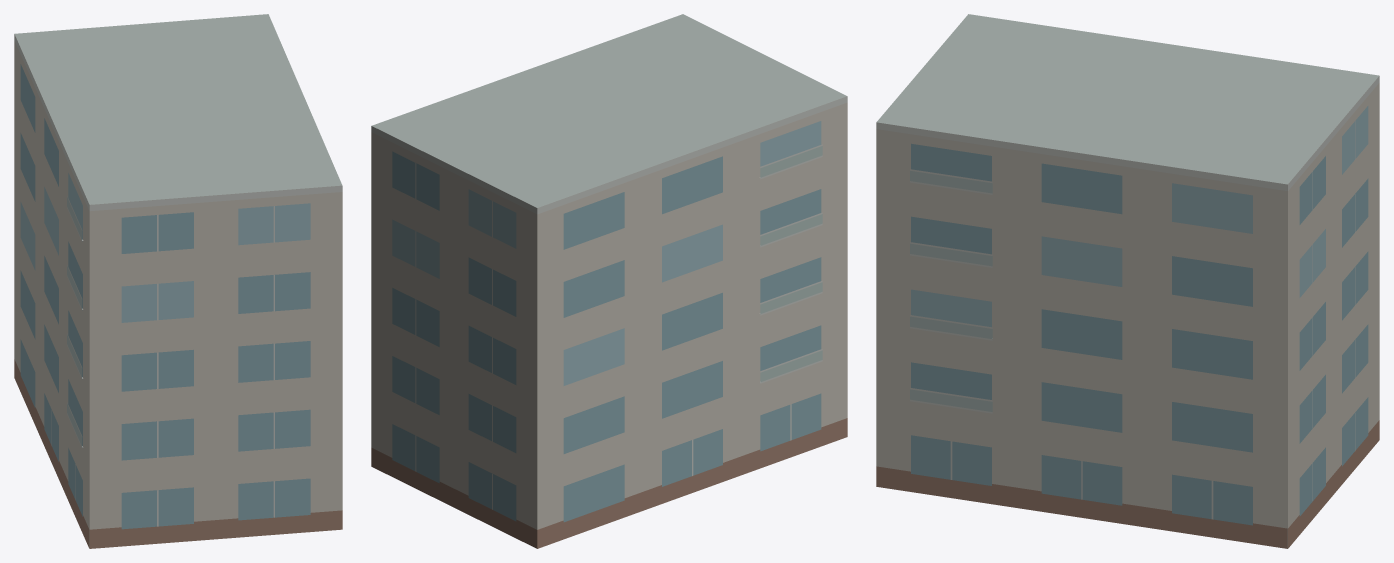
The model's file is survey-upis-32885970.glb.
3 renders of one model, left to right at view 1: azimuth 30°, elevation 25°; view 2: azimuth 150°, elevation 25°; view 3: azimuth 270°, elevation 25°, orthographic. The views are drawn at different scales.
Parts seen in each view (by area): view 1: survey-upis-32885970.tmp; view 2: survey-upis-32885970.tmp; view 3: survey-upis-32885970.tmp.
Part boxes in pixels (x1,y1,x2,y2): survey-upis-32885970.tmp: [14, 14, 342, 548]; survey-upis-32885970.tmp: [371, 14, 847, 548]; survey-upis-32885970.tmp: [876, 14, 1379, 548].
Bounding box in the file's own units: 13.26 × 13.2 × 16.54.
